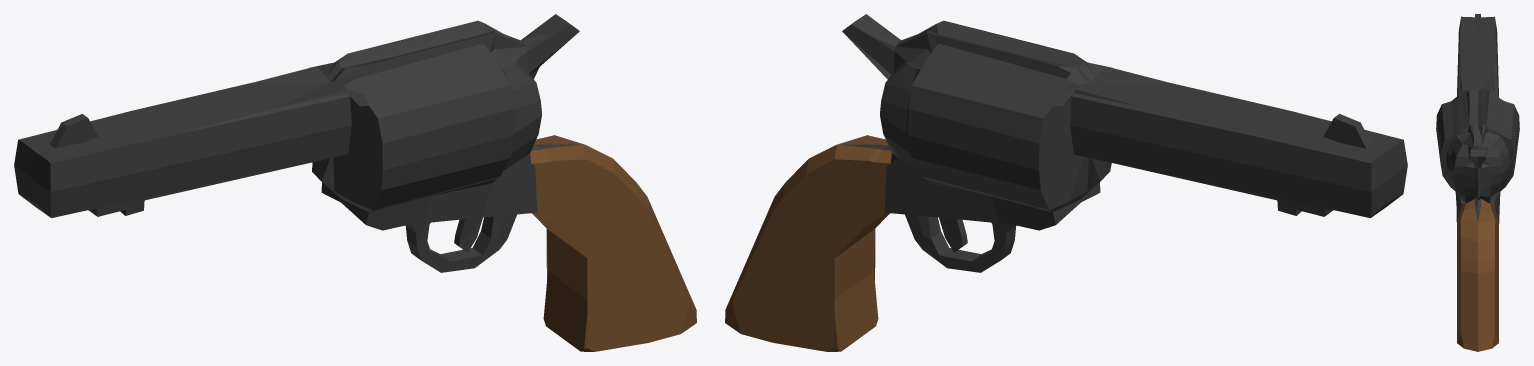
File: sheriff_gun.glb
3 renders of one model, left to right at view 1: azimuth 30°, elevation 25°; view 2: azimuth 150°, elevation 25°; view 3: azimuth 270°, elevation 25°, orthographic. The views are drawn at different scales.
Parts seen in each view (by area): view 1: Cube; view 2: Cube; view 3: Cube.
Part boxes in pixels (x1,y1,x2,y2): Cube: (14, 14, 696, 351); Cube: (725, 14, 1407, 351); Cube: (1436, 14, 1519, 351).
Bounding box in the file's own units: 4.5 × 2.23 × 0.9424.
